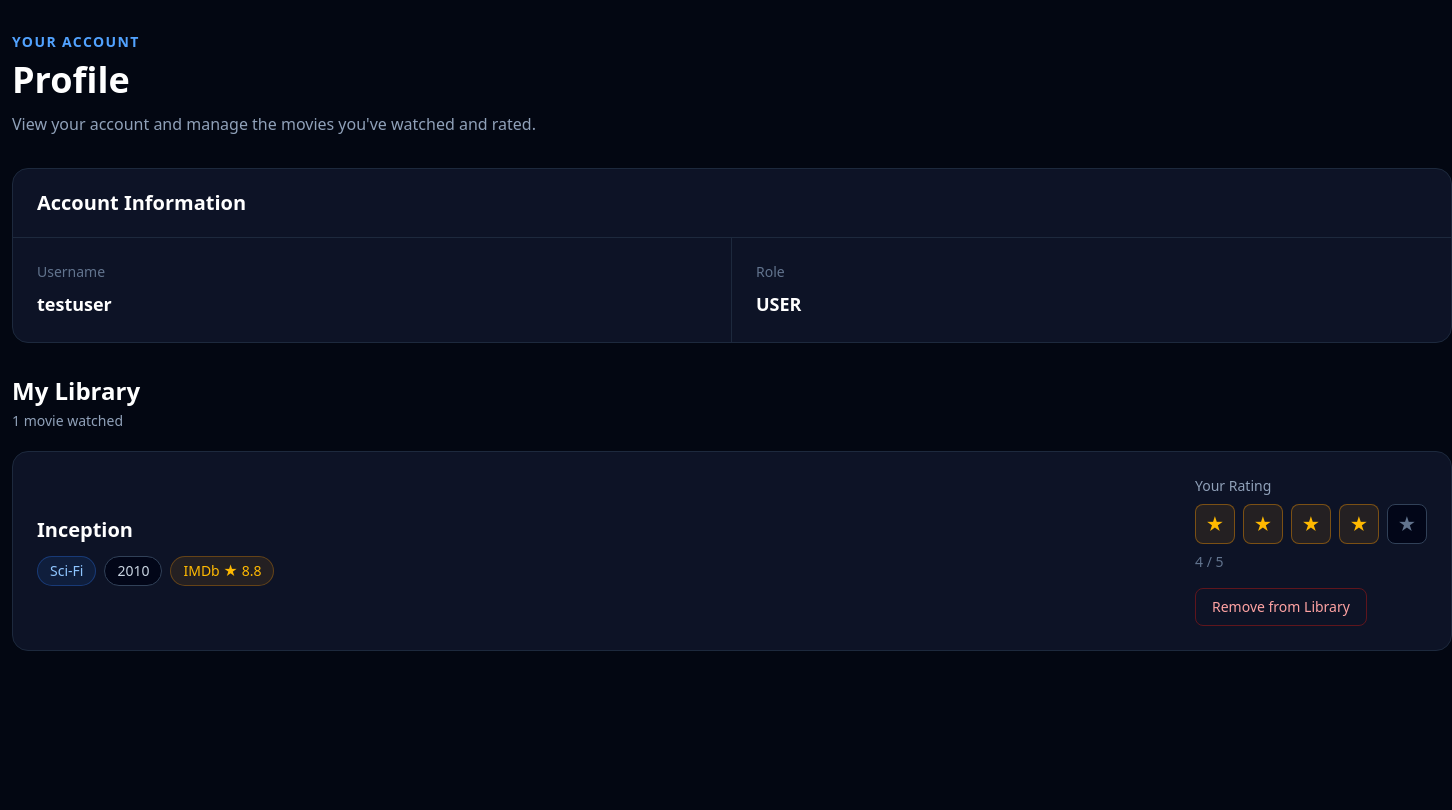
Test: Profile › allows the user to change a movie rating
Expected: the link "Inception" is shown, [37,516,133,543]
Click the button named "Rate 5 out of 5".
click(1407, 524)  # box [1387,504,1427,544]
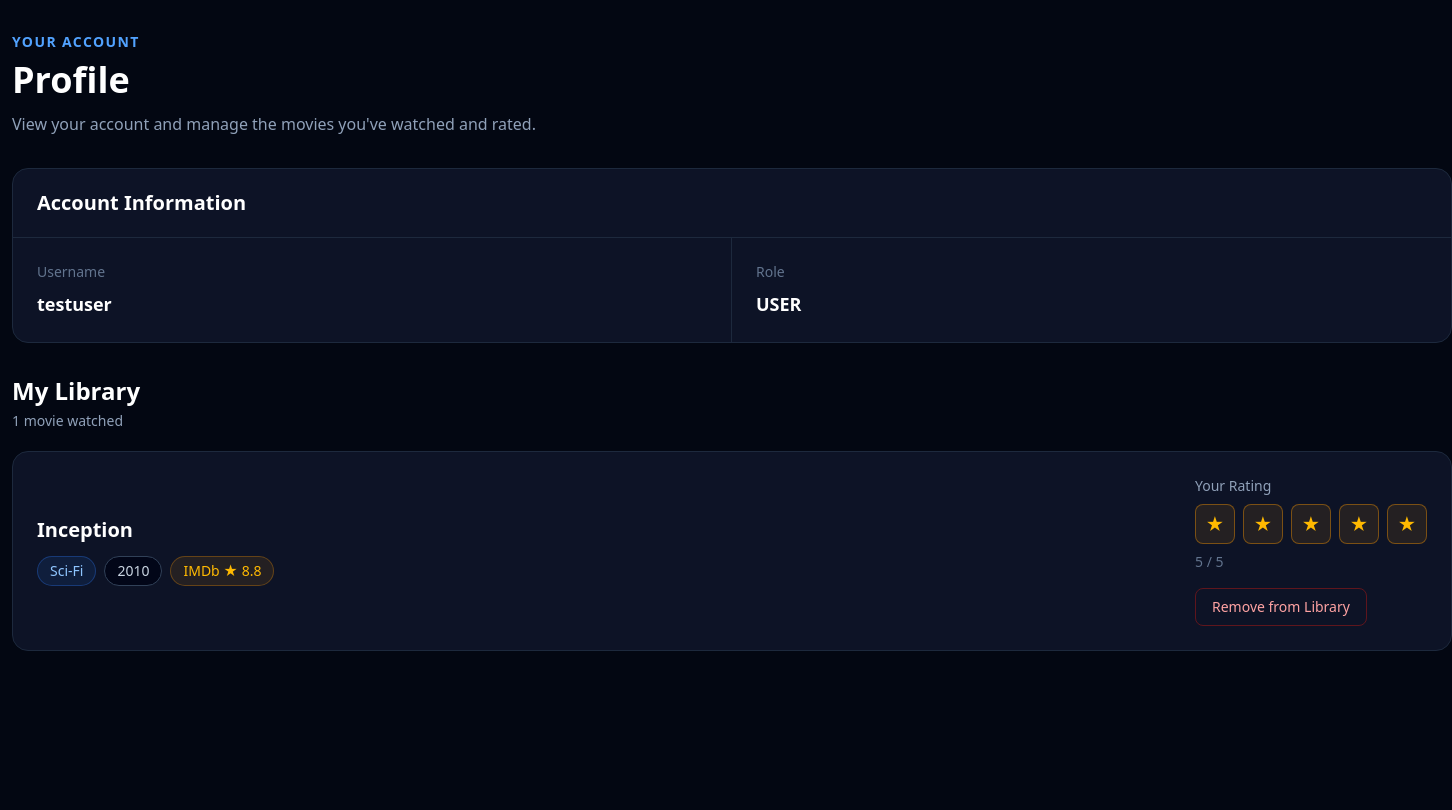
Expected: the text "5 / 5" is shown, [1195,552,1224,571]
